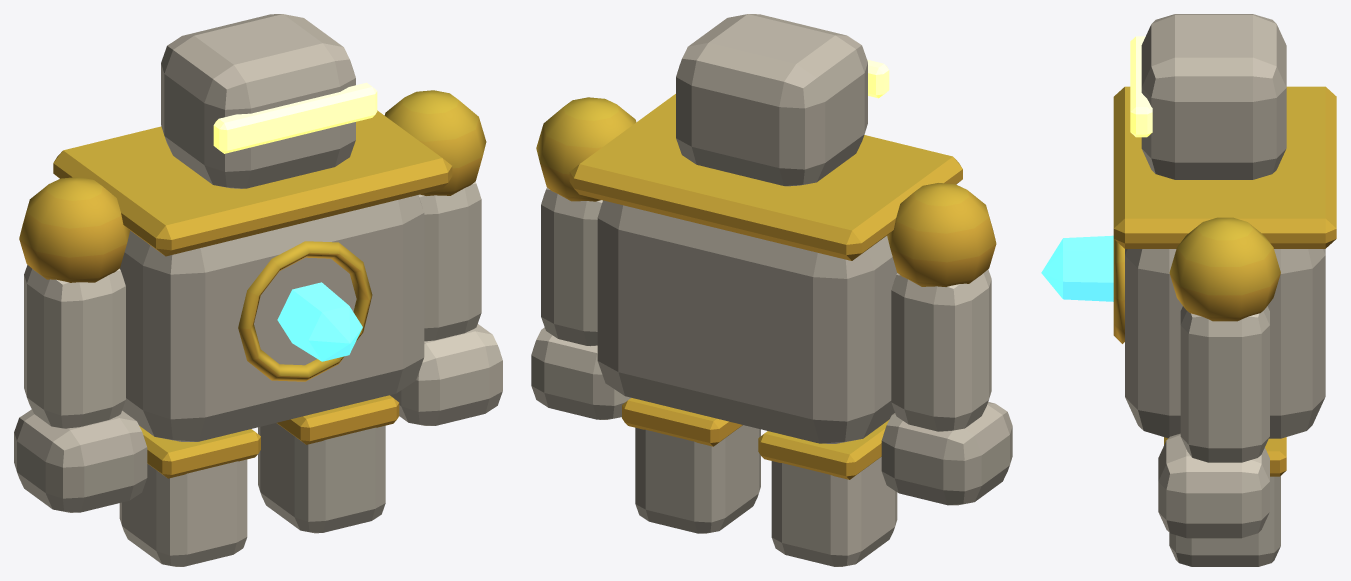
File: monster_dawn_golem.glb
3 renders of one model, left to right at view 1: azimuth 30°, elevation 25°; view 2: azimuth 150°, elevation 25°; view 3: azimuth 270°, elevation 25°, orthographic. The views are drawn at different scales.
Parts seen in each view (by area): view 1: body_t0_palette, arml_t0_palette, armr_t0_palette, legr_t0_palette, legl_t0_palette, body_t0_glow_gold, body_t0_crystal; view 2: body_t0_palette, arml_t0_palette, armr_t0_palette, legl_t0_palette, legr_t0_palette, body_t0_glow_gold; view 3: body_t0_palette, armr_t0_palette, legr_t0_palette, body_t0_crystal, body_t0_glow_gold.
Part boxes in pixels (x1,y1,x2,y2): body_t0_palette: (53,14,452,441); arml_t0_palette: (14,177,147,512); armr_t0_palette: (384,90,502,425); legr_t0_palette: (258,395,399,533); legl_t0_palette: (119,426,260,566); body_t0_glow_gold: (213,82,377,153); body_t0_crystal: (277,282,362,361); body_t0_palette: (569,14,962,443); arml_t0_palette: (881,183,1012,505); armr_t0_palette: (531,97,636,419); legl_t0_palette: (758,419,897,566); legr_t0_palette: (622,398,760,533); body_t0_glow_gold: (867,59,889,98); body_t0_palette: (1113,14,1336,438); armr_t0_palette: (1158,217,1280,538); legr_t0_palette: (1164,437,1286,566); body_t0_crystal: (1041,235,1113,301); body_t0_glow_gold: (1130,36,1152,137).
Bounding box in the file's own units: 0.46 × 0.48 × 0.265.
